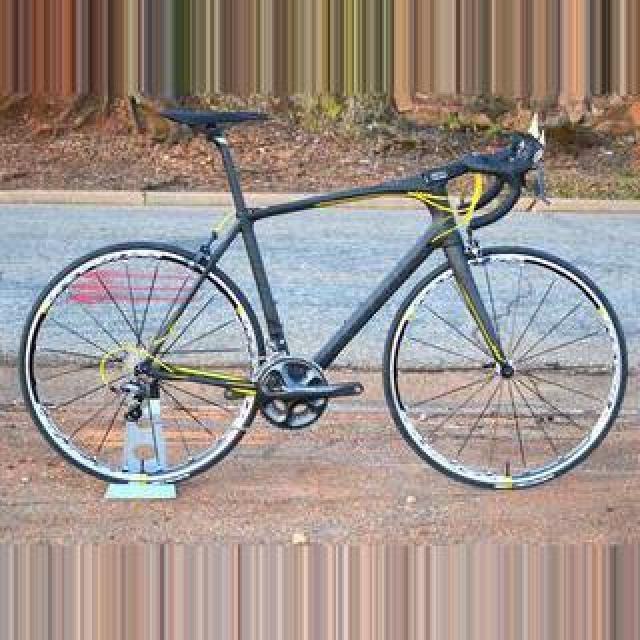Person: (22, 102, 630, 496)
